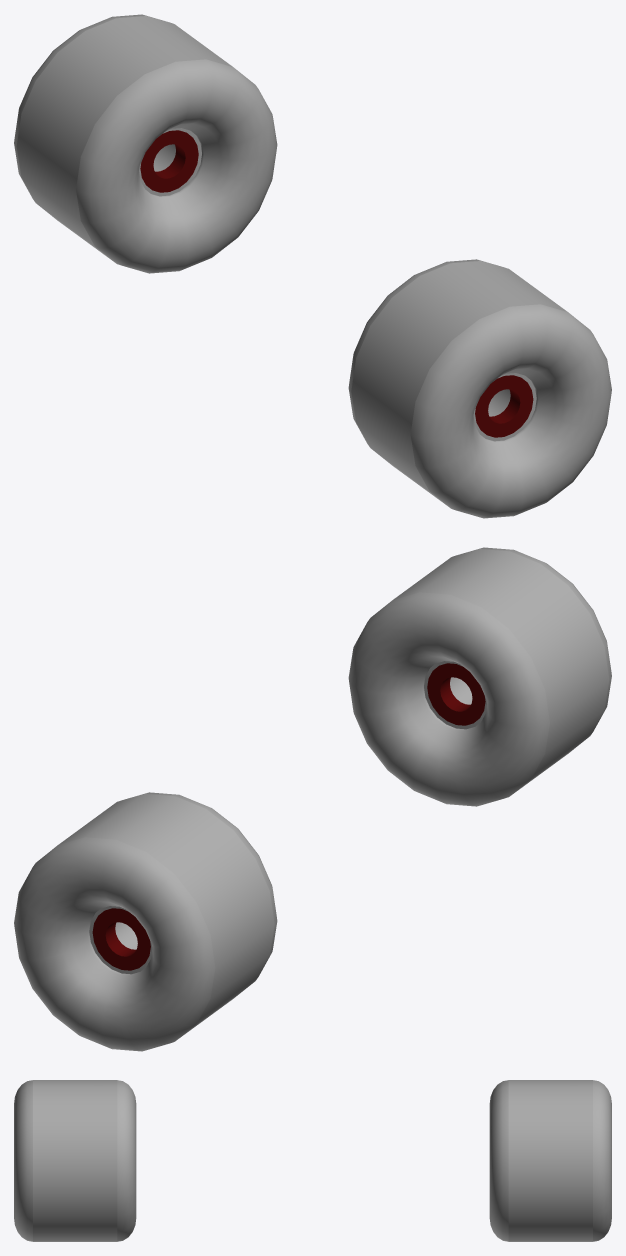
File: LargeWheels.fbx
3 views of the same model, one above another, from view 1: azimuth 30°, elevation 25°; view 2: azimuth 150°, elevation 25°; view 3: azimuth 270°, elevation 25° (orthographic). The views are drawn at different scales.
Parts seen in each view (by area): view 1: LargeWheels; view 2: LargeWheels; view 3: LargeWheels.
Part boxes in pixels (x1=…): LargeWheels: x1=14, y1=14, x2=611, y2=518; LargeWheels: x1=14, y1=547, x2=611, y2=1051; LargeWheels: x1=14, y1=1080, x2=611, y2=1241.
Bounding box in the file's own units: 0.6 × 0.6 × 2.2.
